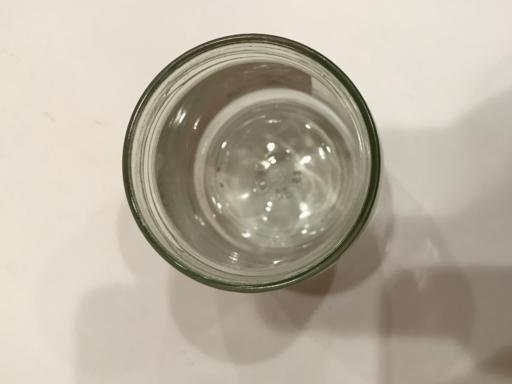botolkaca: (122, 34, 381, 294)
